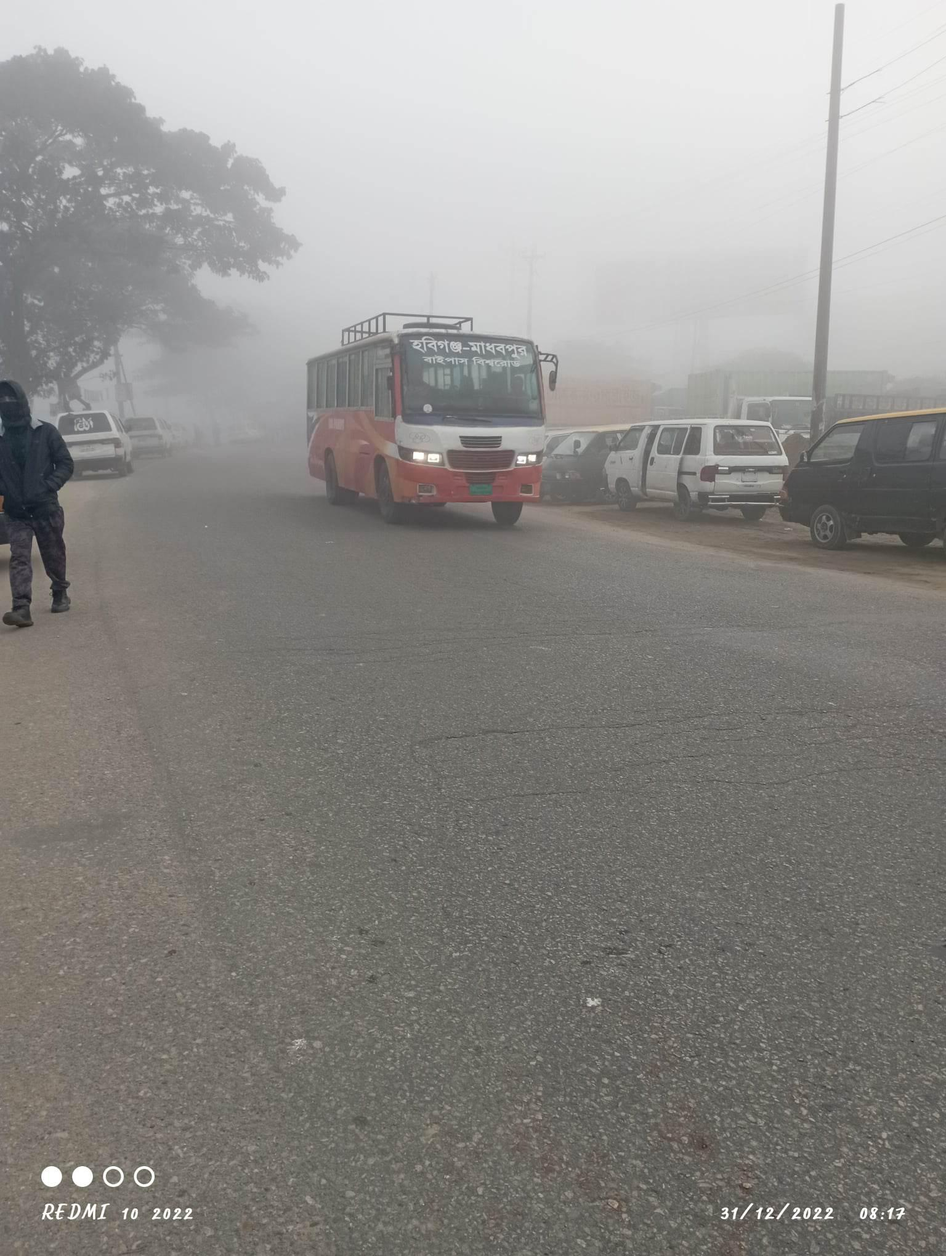Bus: (298, 307, 567, 552)
Car: (779, 405, 946, 561), (605, 416, 788, 523), (48, 396, 135, 498), (123, 406, 177, 470)
